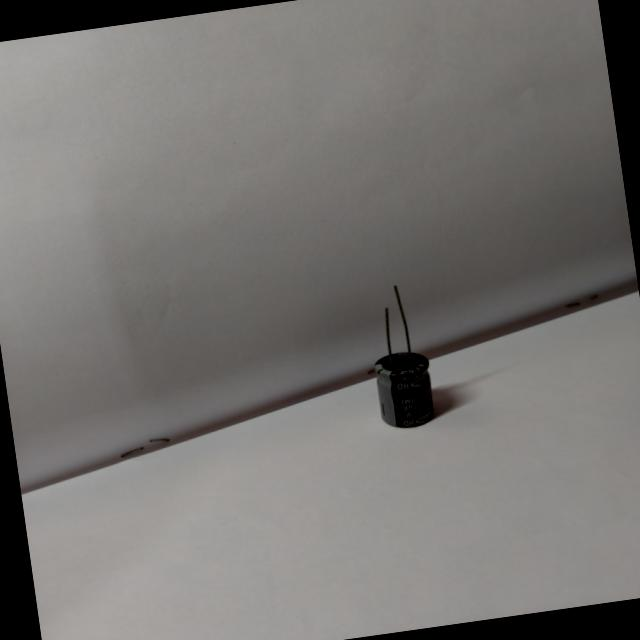capacitor: (356, 274, 448, 442)
